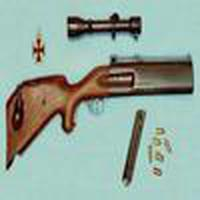gun: (4, 59, 199, 166)
